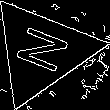N_SE: (8, 23, 75, 79)
